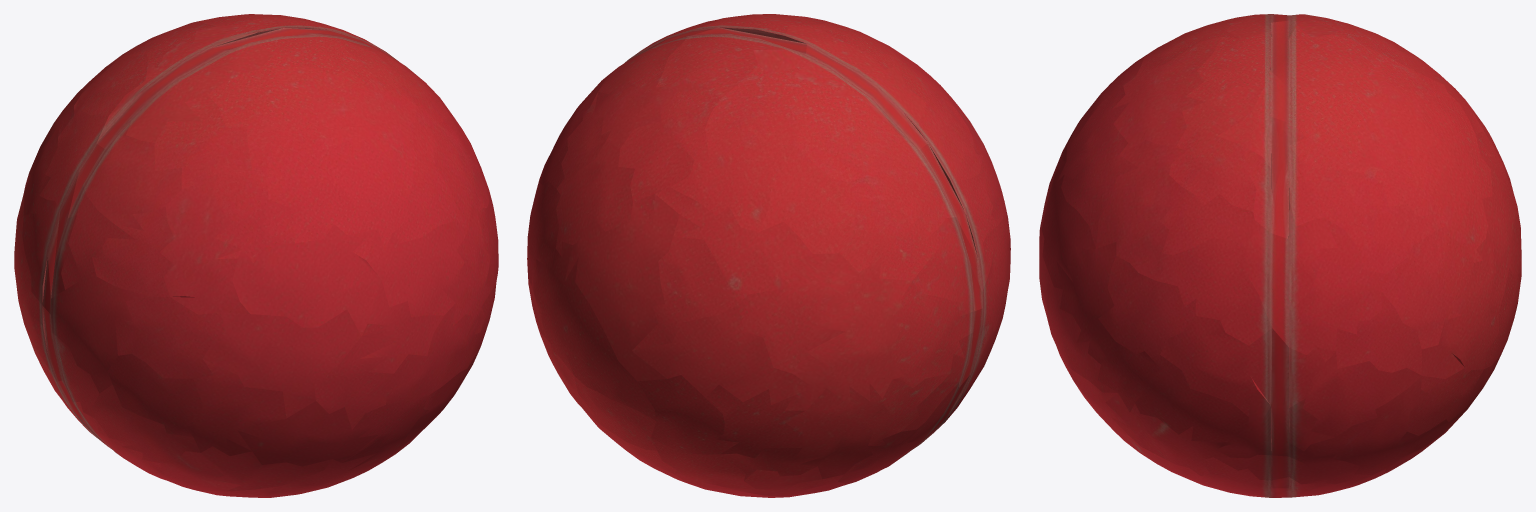
File: palla_rossa.glb
3 renders of one model, left to right at view 1: azimuth 30°, elevation 25°; view 2: azimuth 150°, elevation 25°; view 3: azimuth 270°, elevation 25°, orthographic.
Parts seen in each view (by area): view 1: Mesh_0; view 2: Mesh_0; view 3: Mesh_0.
Boxes of the visible parts, x1,y1,x2,y2 form: Mesh_0: (14, 14, 498, 497); Mesh_0: (527, 14, 1010, 497); Mesh_0: (1039, 14, 1521, 497).
Bounding box in the file's own units: 1.9 × 1.9 × 1.89.
1 material, 1 textured.
